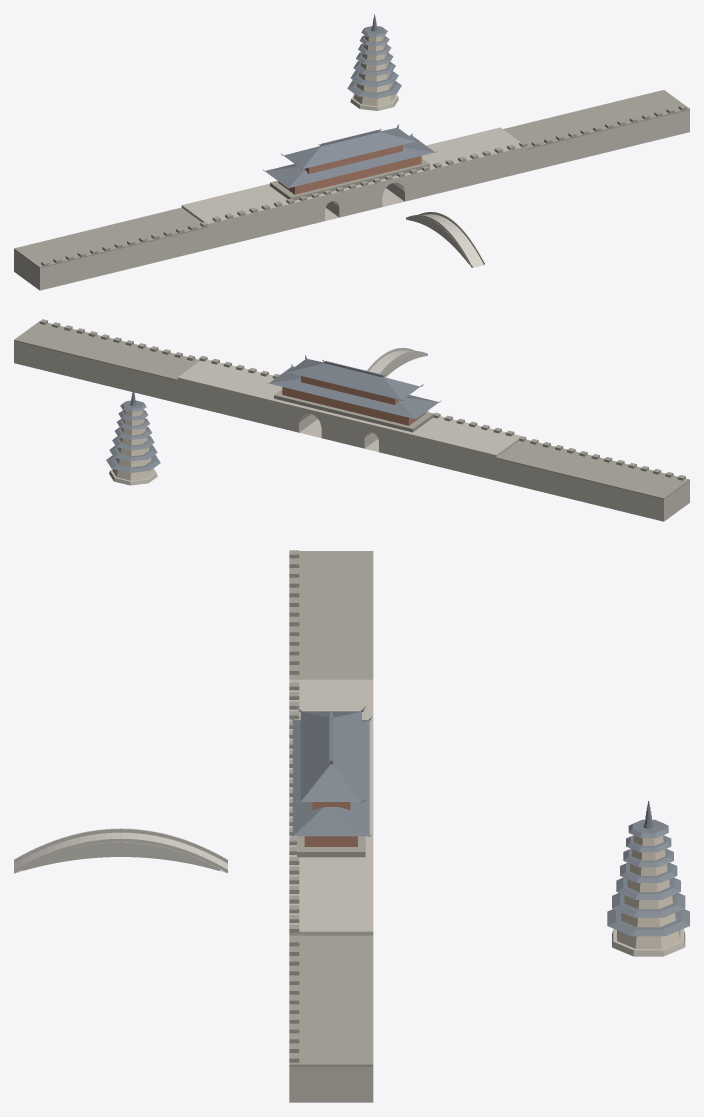
The model's file is panmen.glb.
3 renders of one model, top to bottom at view 1: azimuth 30°, elevation 25°; view 2: azimuth 150°, elevation 25°; view 3: azimuth 270°, elevation 25°, orthographic. The views are drawn at different scales.
Visible parts, largest first — view 1: panmen_stone, panmen_stone_dark, panmen_tile, panmen_wood, panmen_bridge, panmen_brick; view 2: panmen_stone, panmen_stone_dark, panmen_tile, panmen_wood, panmen_brick, panmen_bridge; view 3: panmen_stone_dark, panmen_tile, panmen_stone, panmen_bridge, panmen_brick, panmen_wood.
Boxes of the visible parts, <box> form: panmen_stone: <box>14,94,689,290</box>; panmen_stone_dark: <box>14,90,689,268</box>; panmen_tile: <box>262,14,436,188</box>; panmen_wood: <box>278,145,421,194</box>; panmen_bridge: <box>406,212,484,267</box>; panmen_brick: <box>353,35,395,106</box>; panmen_stone: <box>14,341,689,521</box>; panmen_stone_dark: <box>14,319,689,499</box>; panmen_tile: <box>106,355,441,472</box>; panmen_wood: <box>282,376,425,425</box>; panmen_brick: <box>112,410,154,480</box>; panmen_bridge: <box>366,348,427,377</box>; panmen_stone_dark: <box>289,550,373,1066</box>; panmen_tile: <box>290,706,689,936</box>; panmen_stone: <box>289,679,685,1102</box>; panmen_bridge: <box>14,828,227,873</box>; panmen_brick: <box>617,835,680,948</box>; panmen_wood: <box>304,802,357,846</box>.
Size of the model in its own units: 318 by 40.4 by 177.
